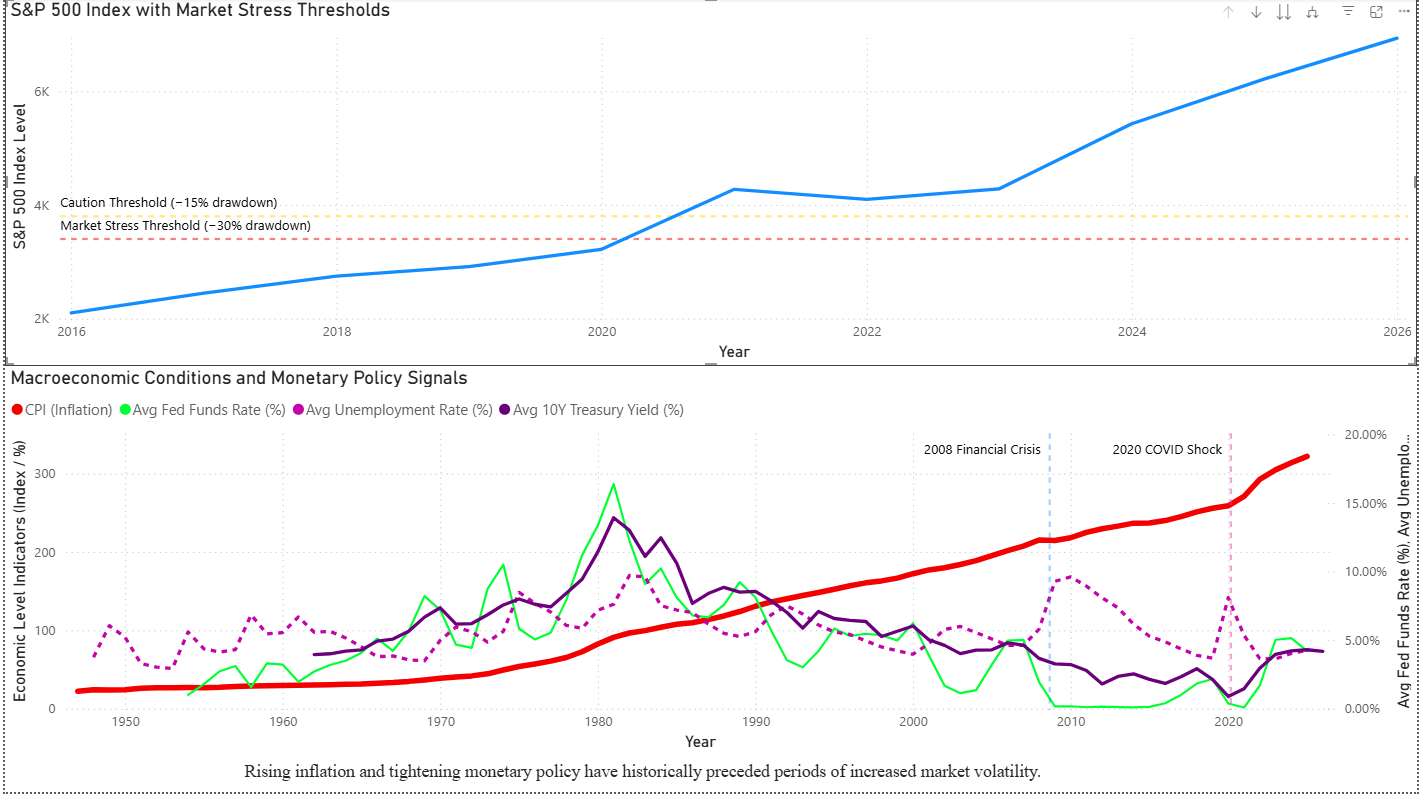

This screenshot's page, from the dashboard's own definition file:
{"tool":"powerbi","page":{"name":"Market Risk Monitor Dashboard","canvas":[1280,720],"ordinal":0},"visuals":[{"type":"lineChart","title":"S&P 500 Index with Market Stress Thresholds","fields":{"Category":["public v_market_risk_metrics.date.Variation.Date Hierarchy.Year","public v_market_risk_metrics.date.Variation.Date Hierarchy.Quarter","public v_market_risk_metrics.date.Variation.Date Hierarchy.Month","public v_market_risk_metrics.date.Variation.Date Hierarchy.Day"],"Y":["Avg(public v_market_risk_metrics.sp500)"]},"box":[0,0,1280.4,333.7],"z":0},{"type":"lineChart","title":"Macroeconomic Conditions and Monetary Policy Signals","fields":{"Category":["public v_market_risk_metrics.date.Variation.Date Hierarchy.Year","public v_market_risk_metrics.date.Variation.Date Hierarchy.Quarter","public v_market_risk_metrics.date.Variation.Date Hierarchy.Month","public v_market_risk_metrics.date.Variation.Date Hierarchy.Day"],"Y":["Avg(public v_market_risk_metrics.cpi)"],"Y2":["public v_market_risk_metrics.Avg Fed Funds Rate (%)","public v_market_risk_metrics.Avg Unemployment Rate (%)","public v_market_risk_metrics.Avg 10Y Treasury Yield (%)"]},"box":[0,333.6,1280,354],"z":1000},{"type":"textbox","box":[212,687.7,748,32.1],"z":1001}]}

Visuals, with their boxes on the page's 1280x720 design canvas (x1, y1, x2, y2). These are canvas units, not pixel positions in the 1419x796 screenshot, which may show the page scaled, cropped or inside an application window:
"S&P 500 Index with Market Stress Thresholds" lineChart: (left=0, top=0, right=1280, bottom=334)
"Macroeconomic Conditions and Monetary Policy Signals" lineChart: (left=0, top=334, right=1280, bottom=688)
textbox: (left=212, top=688, right=960, bottom=720)
